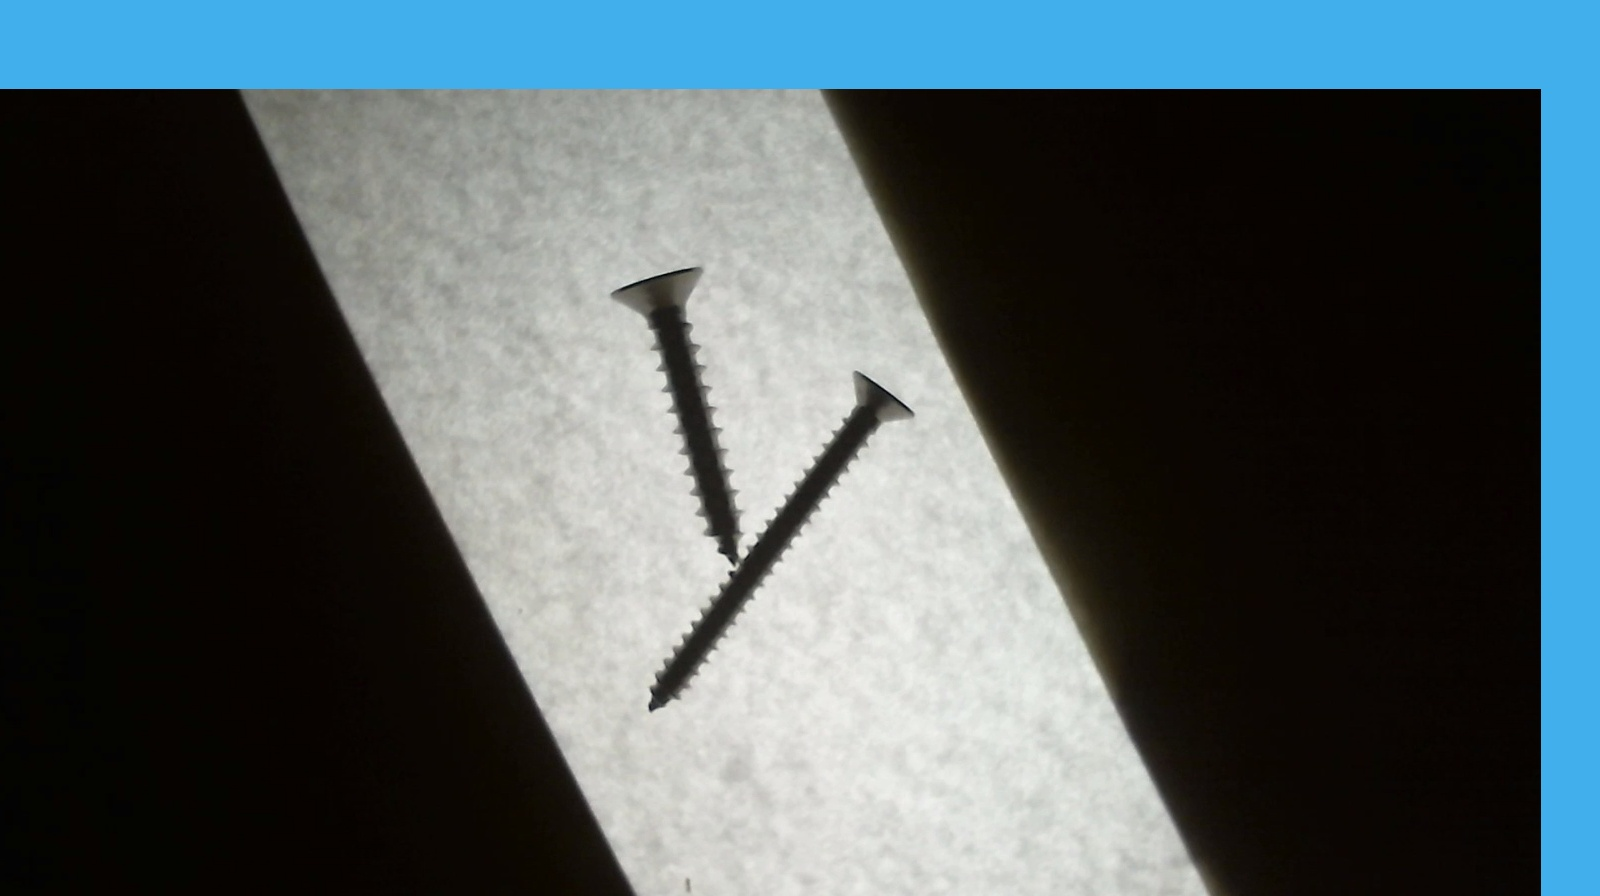S001: (605, 262, 743, 564)
S002: (637, 369, 915, 716)
